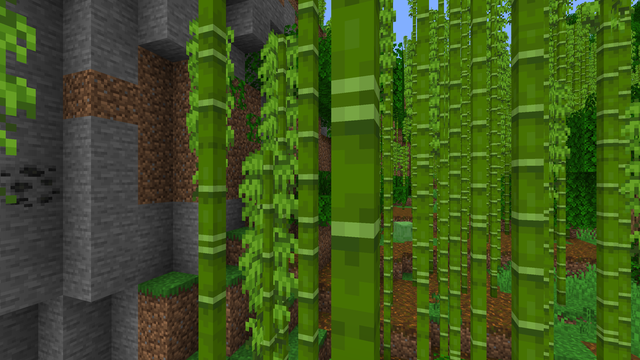slimes: (395, 220, 409, 241)
